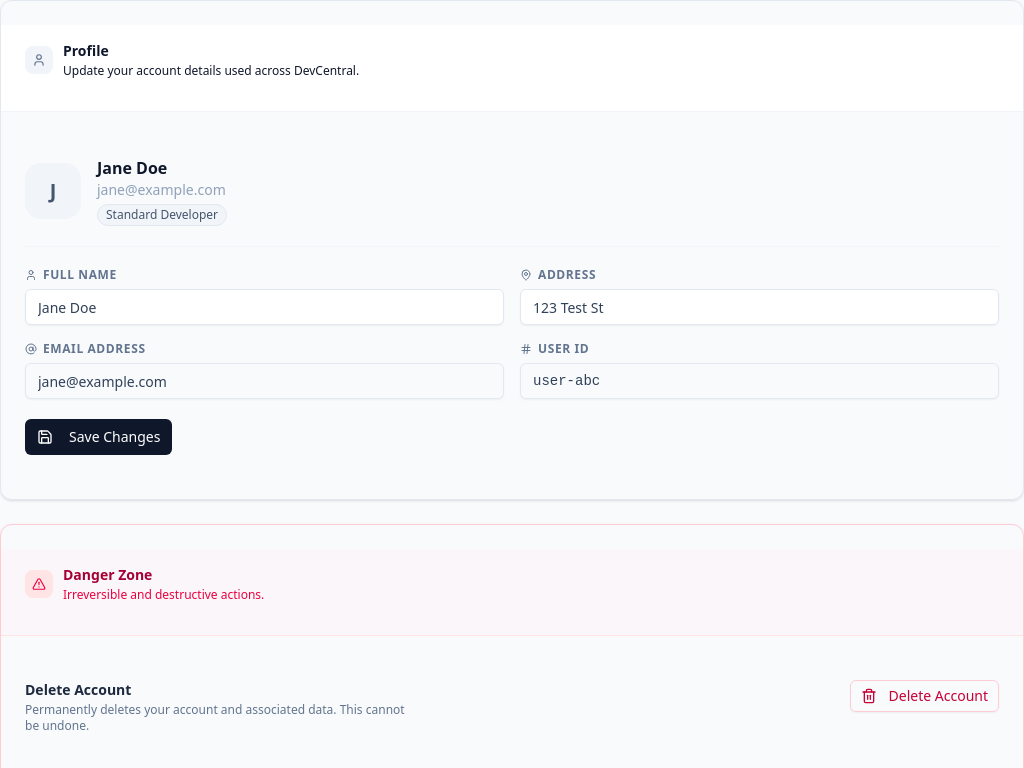
Test: GeneralSection › opens the delete confirmation dialog when Delete Account is clicked
Click the button "Delete Account" at coordinates (924, 696), box [850,680,999,712]
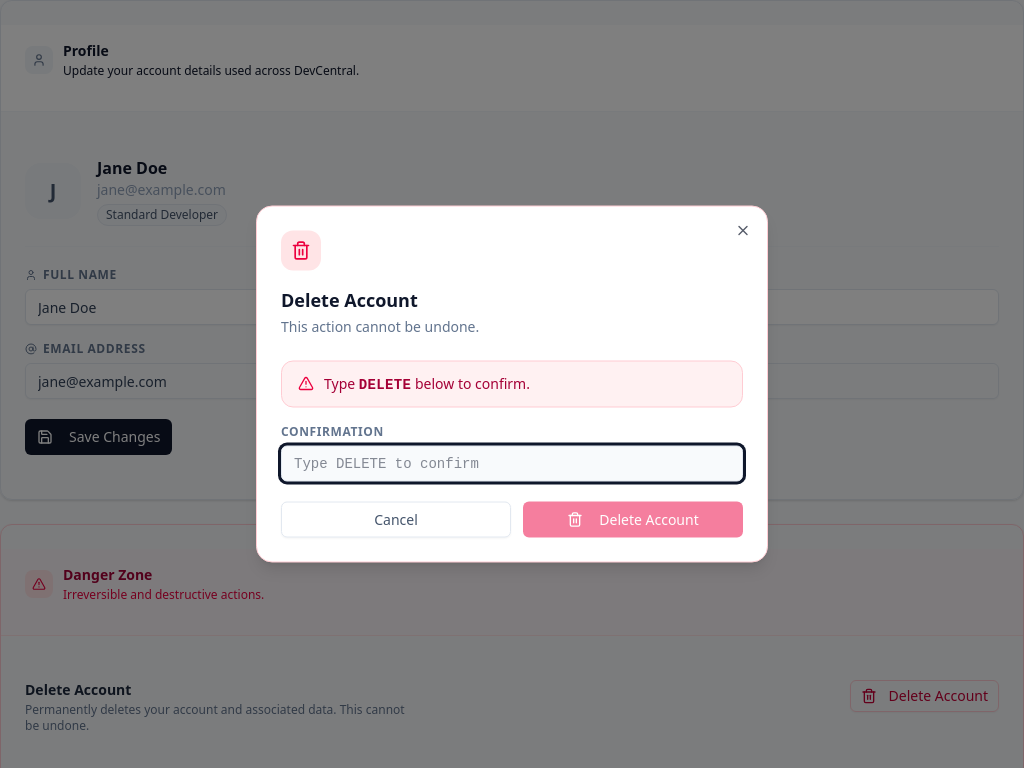
Check: the text "This action cannot be undone." is shown, box [281,316,479,336]
